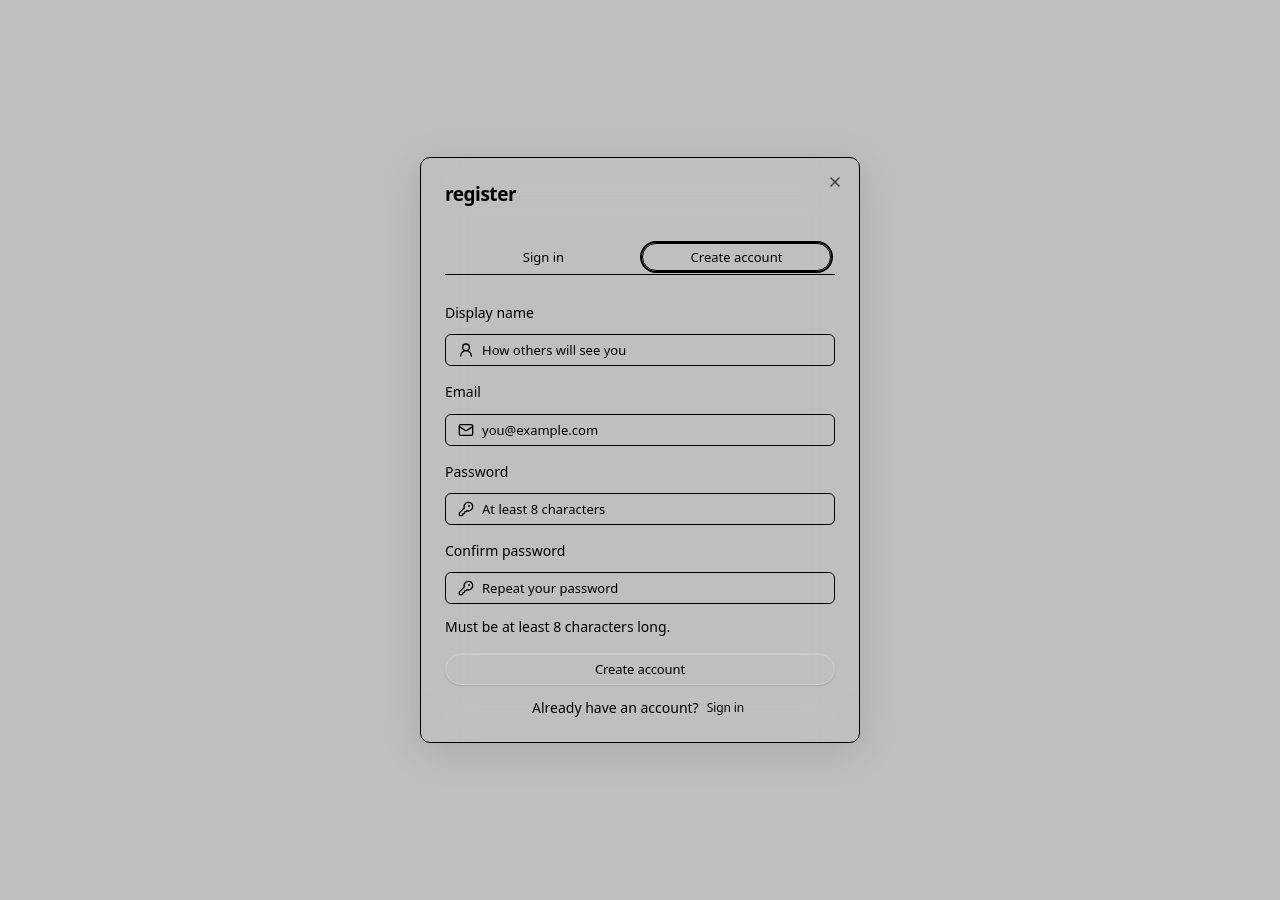
Test: AuthModal › validates password confirmation before registering
Type "Jane Doe" into the field labelled "Display name" at (654, 350), box top-left (474, 335), bottom-right (834, 365)
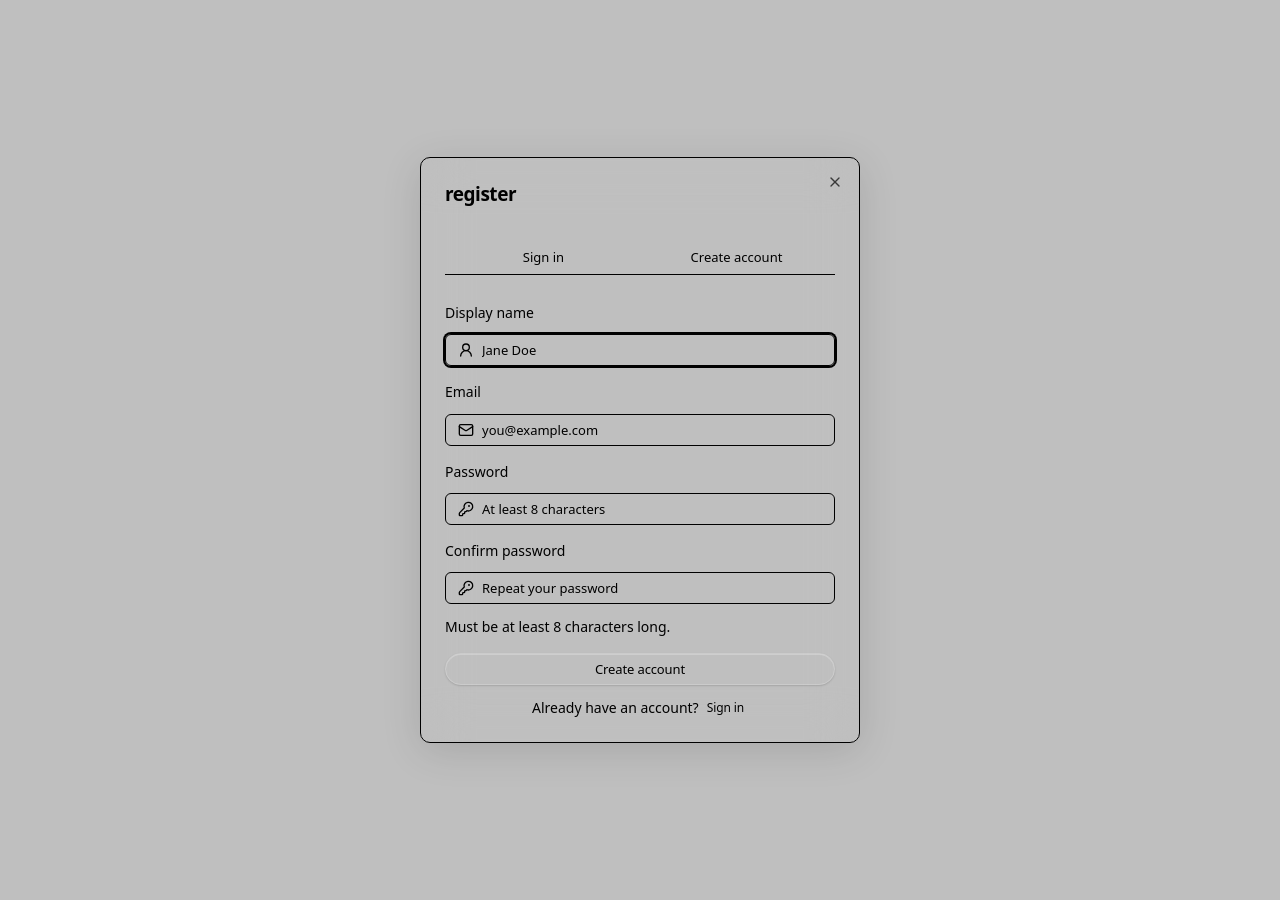
Type "jane@example.com" into the field labelled "Email" at (654, 430), box top-left (474, 414), bottom-right (834, 444)
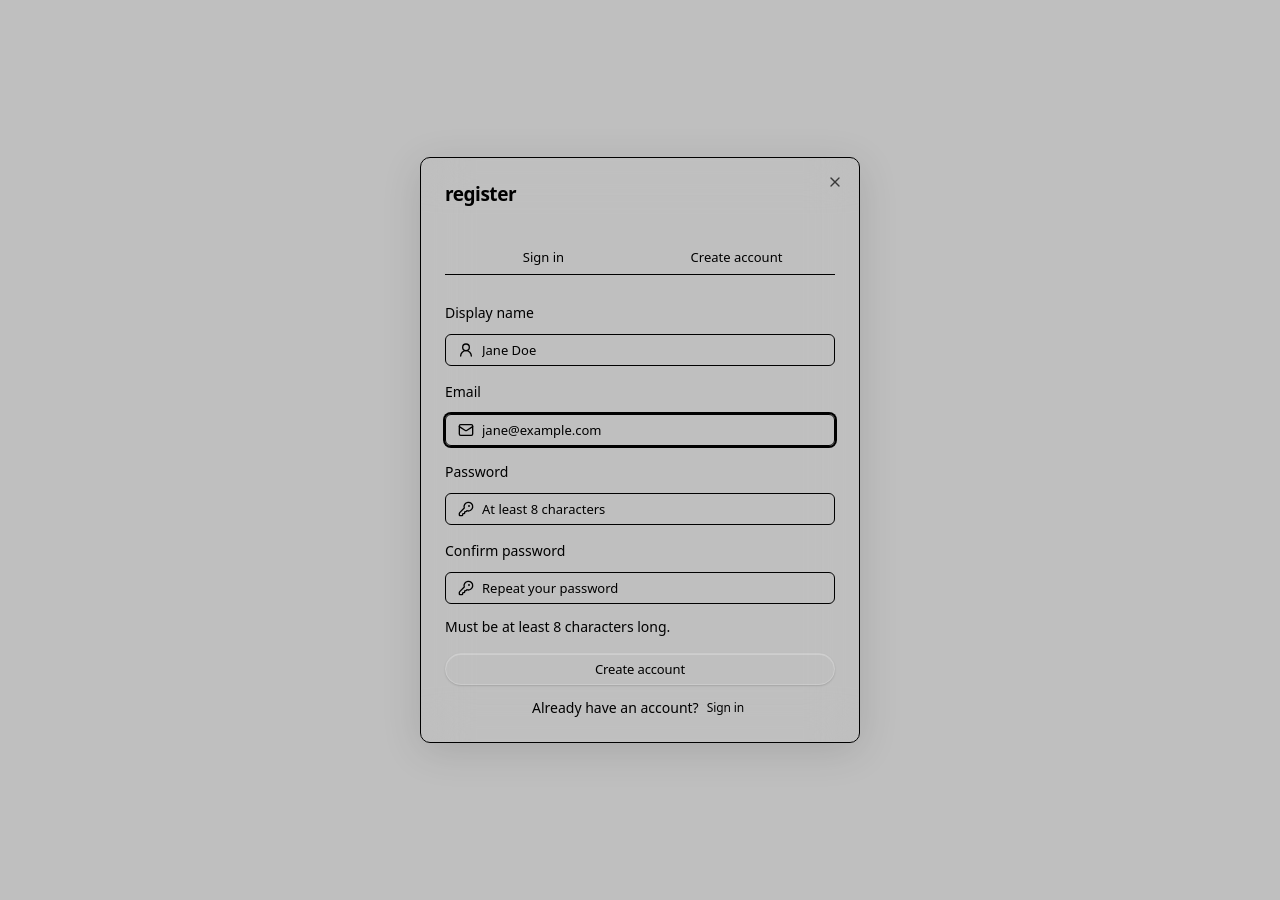
Type "password123" into the password field labelled "Password" at (654, 509), box top-left (474, 494), bottom-right (834, 524)
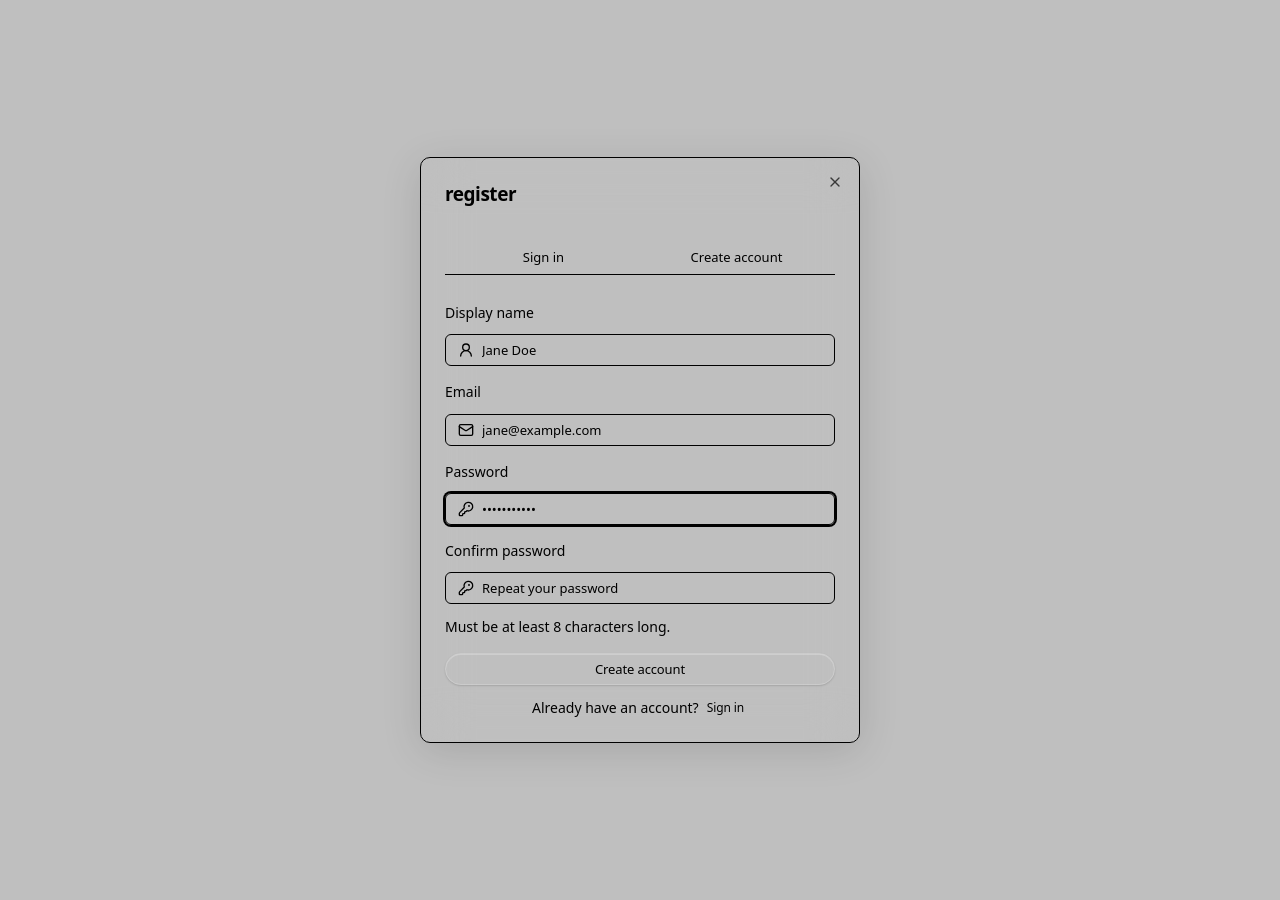
Type "different123" into the password field labelled "Confirm password" at (654, 588), box top-left (474, 573), bottom-right (834, 603)
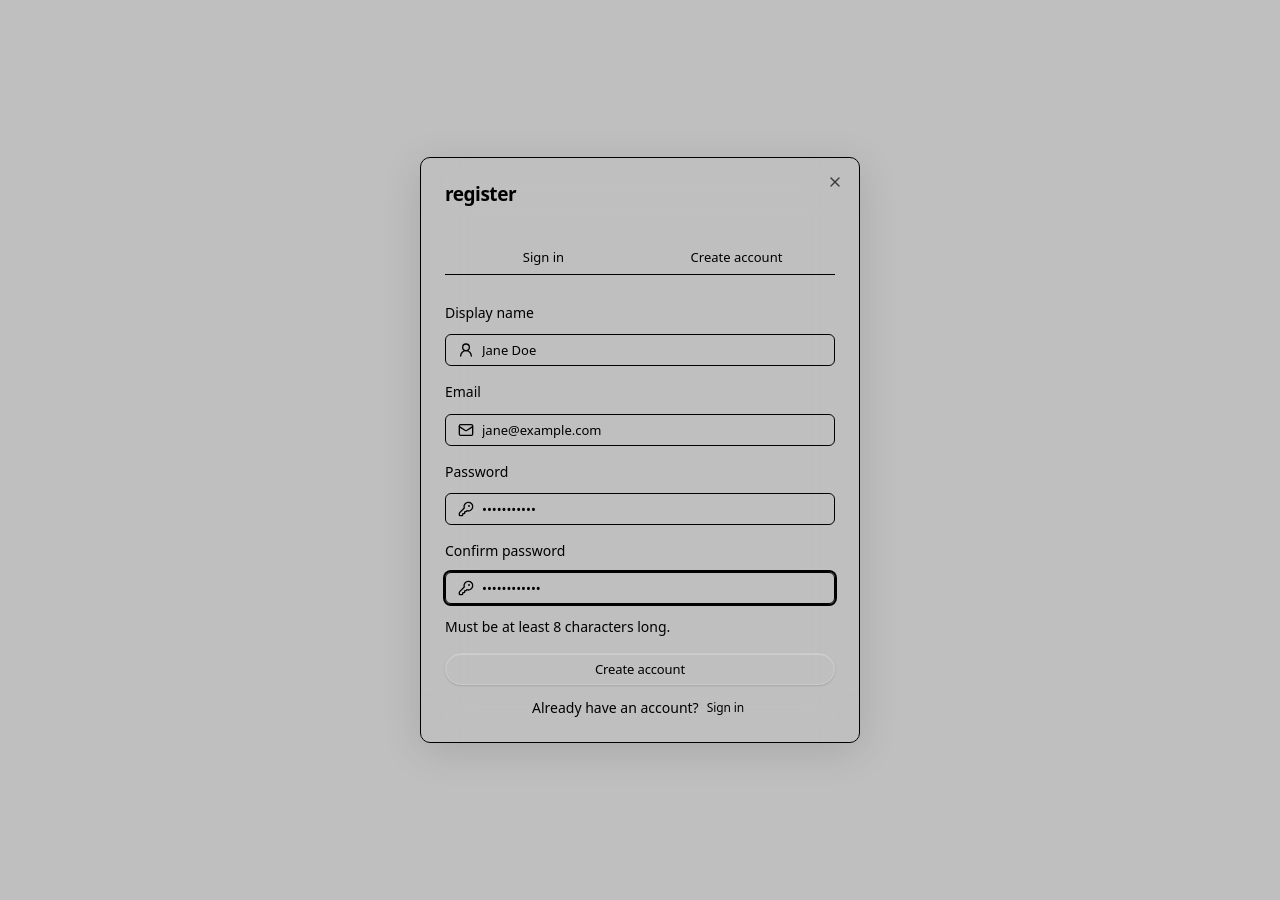
Click the button "Create account" at (640, 669), box top-left (445, 653), bottom-right (835, 685)
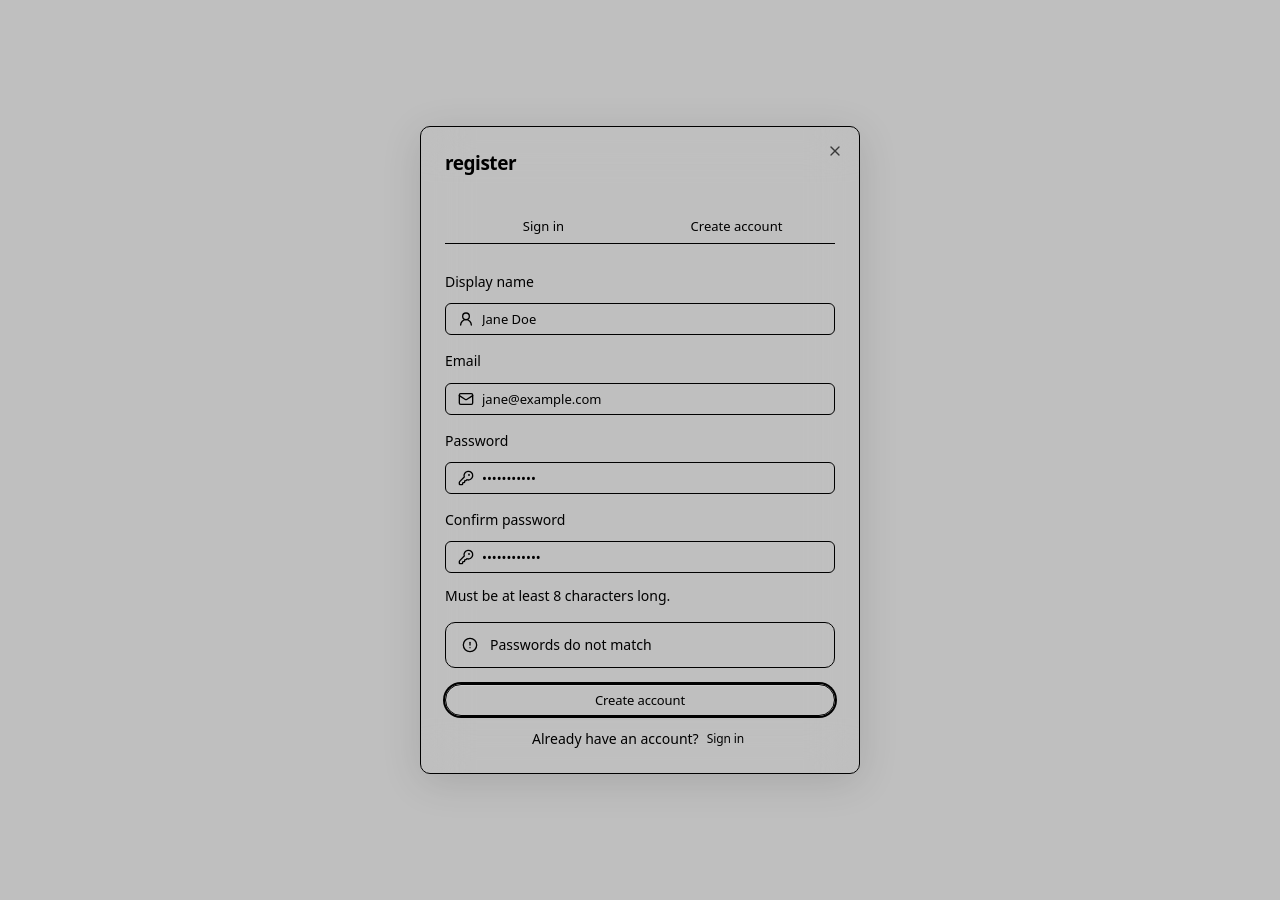
Result: the text "Passwords do not match" is shown at top-left (490, 635), bottom-right (652, 654)
